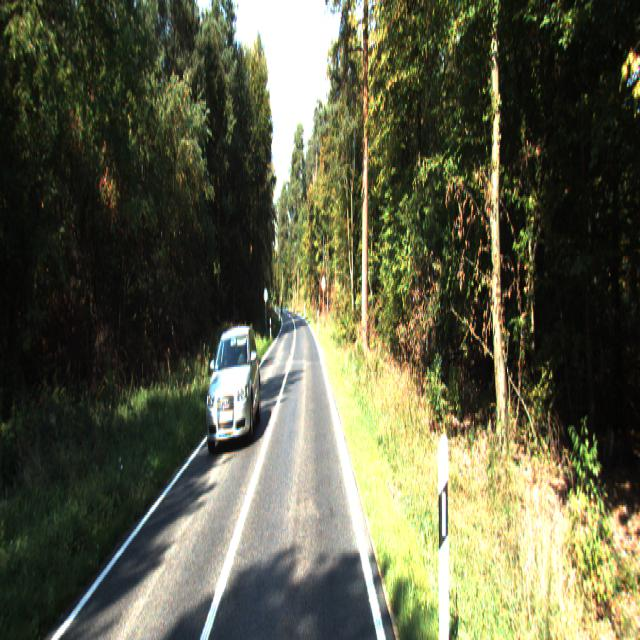Car: (203, 322, 264, 453)
